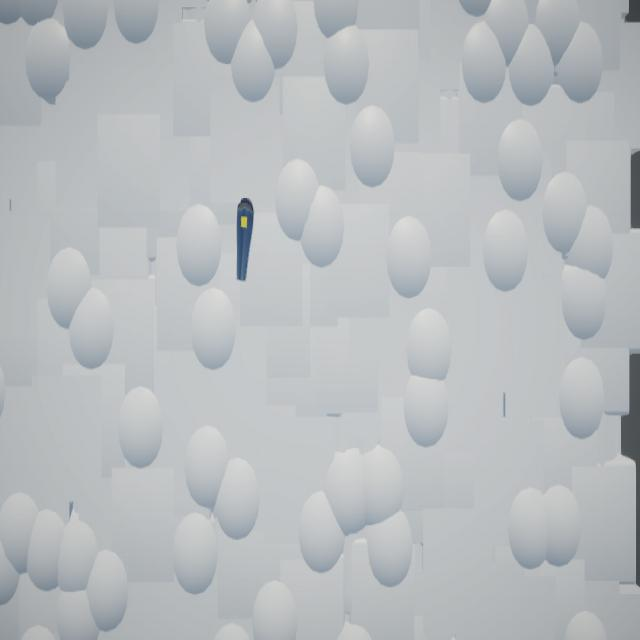handle_knife: (237, 199, 255, 282)
